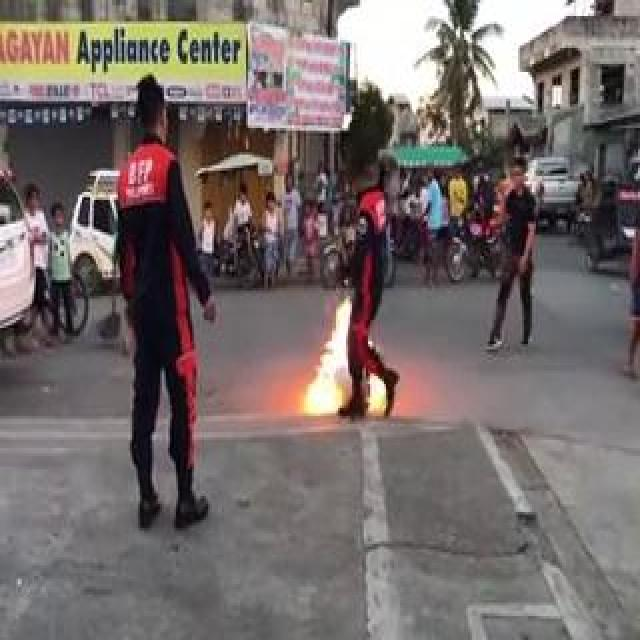Smoke: (302, 304, 394, 419)
